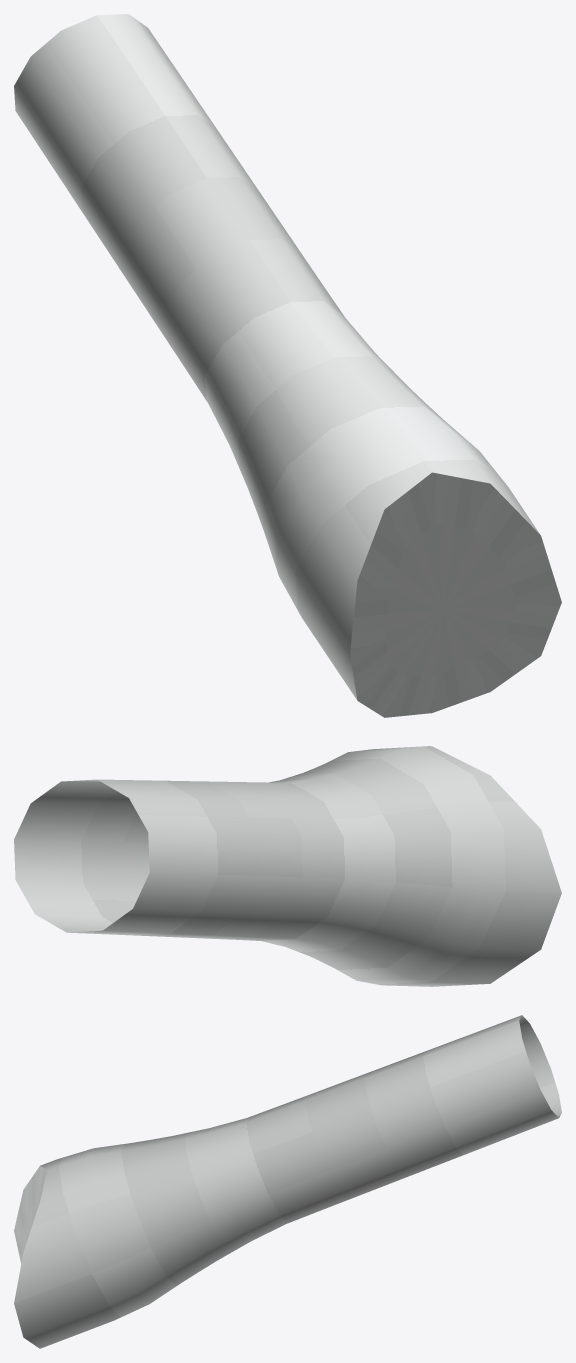
File: luminairearm_caltrans10ftstraightdouble_c0_thin.obj
The picture shows the model from 3 angles, top to bottom: view 1: azimuth 30°, elevation 25°; view 2: azimuth 150°, elevation 25°; view 3: azimuth 270°, elevation 25°; orthographic projection. The views are drawn at different scales.
Visible parts, largest first — view 1: luminairearm_caltrans10ftstraightdouble_c0_thin; view 2: luminairearm_caltrans10ftstraightdouble_c0_thin; view 3: luminairearm_caltrans10ftstraightdouble_c0_thin.
Boxes of the visible parts, x1=… form: luminairearm_caltrans10ftstraightdouble_c0_thin: x1=14, y1=14, x2=561, y2=717; luminairearm_caltrans10ftstraightdouble_c0_thin: x1=14, y1=746, x2=561, y2=986; luminairearm_caltrans10ftstraightdouble_c0_thin: x1=14, y1=1015, x2=561, y2=1348.
Bounding box in the file's own units: 0.3375 × 0.6886 × 1.07.
